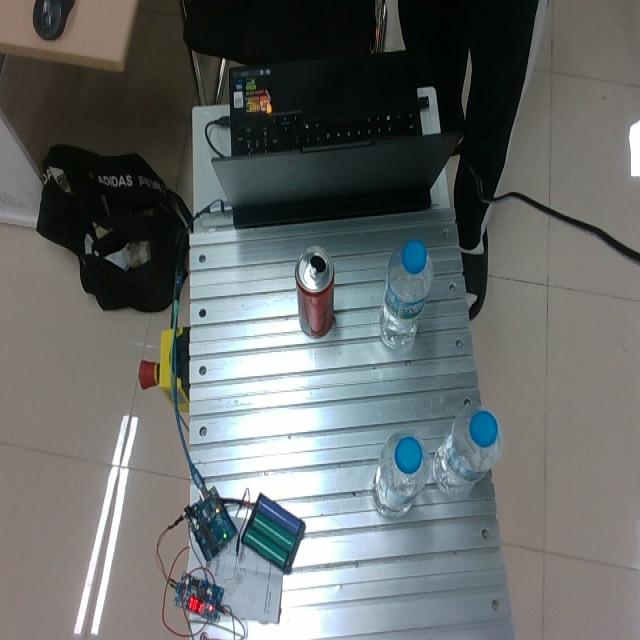coca: (294, 244, 335, 339)
lavie: (431, 405, 502, 495), (377, 238, 433, 350), (373, 431, 429, 516)
